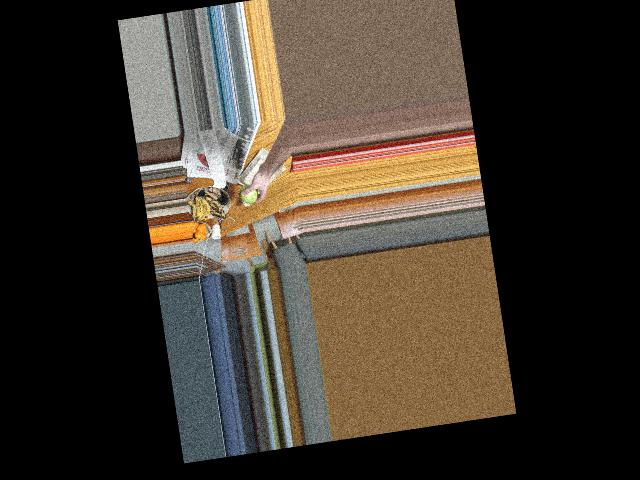apple: (237, 179, 262, 206)
